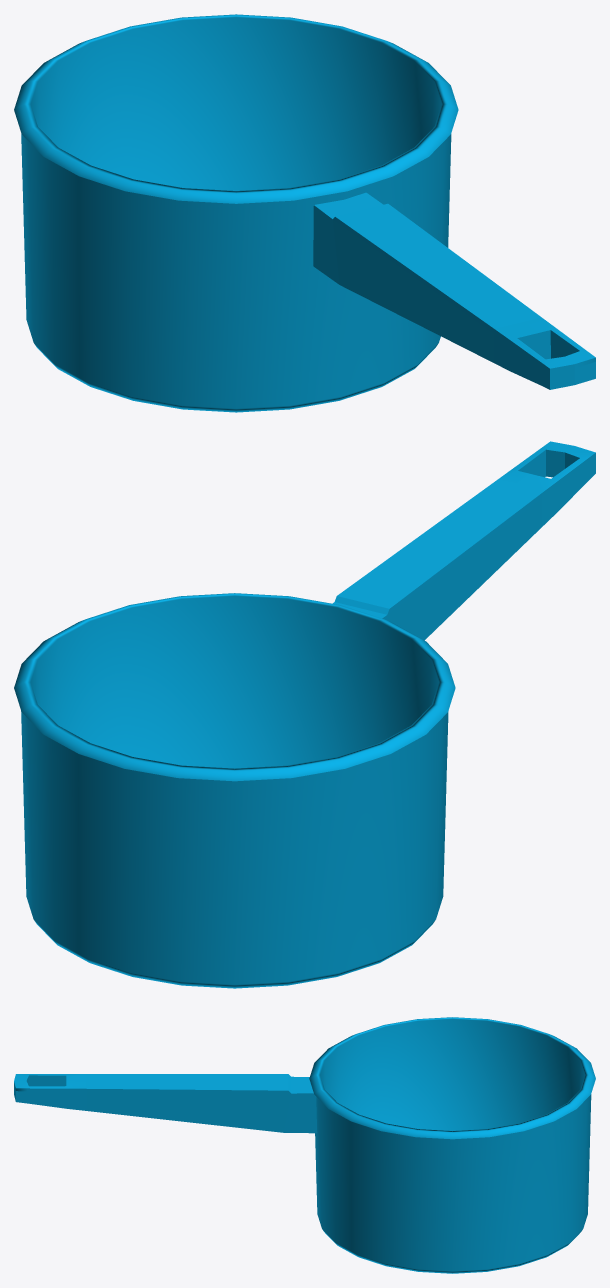
The model's file is Pan_01_Lod0.fbx.
3 views of the same model, one above another, from view 1: azimuth 30°, elevation 25°; view 2: azimuth 150°, elevation 25°; view 3: azimuth 270°, elevation 25° (orthographic). The views are drawn at different scales.
Parts seen in each view (by area): view 1: Pan_01_Lod0; view 2: Pan_01_Lod0; view 3: Pan_01_Lod0.
Boxes of the visible parts, bbox=[...] form: Pan_01_Lod0: bbox=[14, 14, 595, 412]; Pan_01_Lod0: bbox=[14, 441, 595, 988]; Pan_01_Lod0: bbox=[14, 1017, 595, 1273].
Size of the model in its own units: 29.53 by 16.41 by 59.94.
